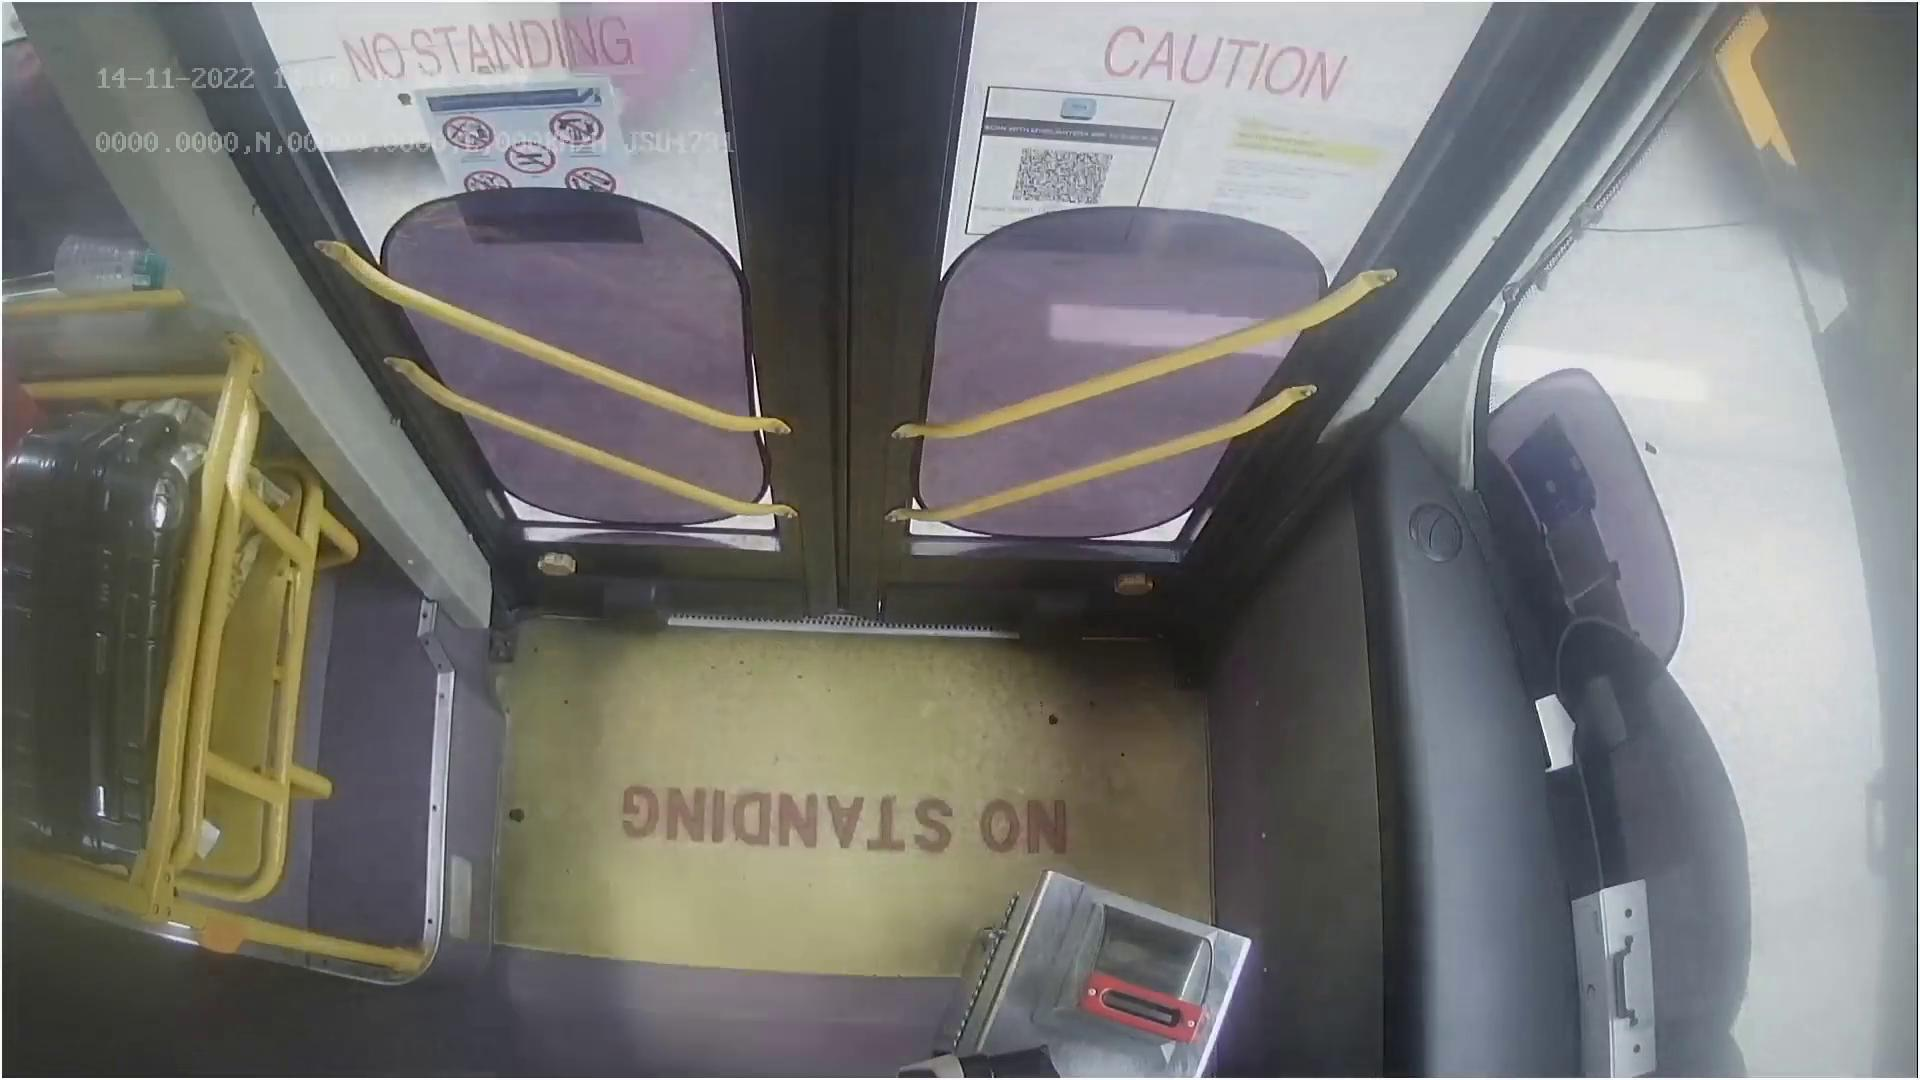close: (284, 0, 1436, 166)
